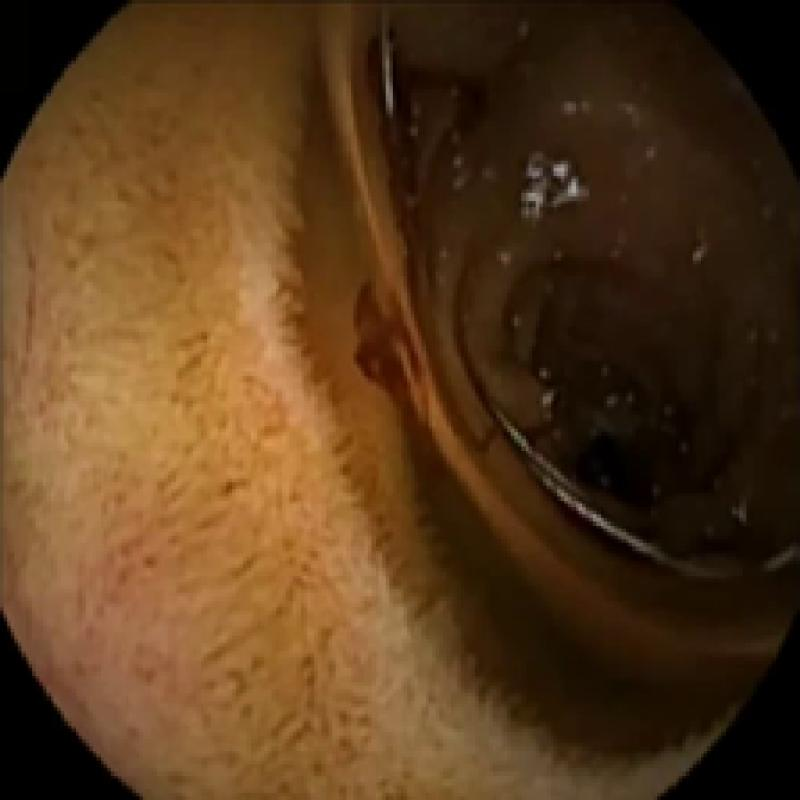bleeding: (350, 21, 564, 478)
